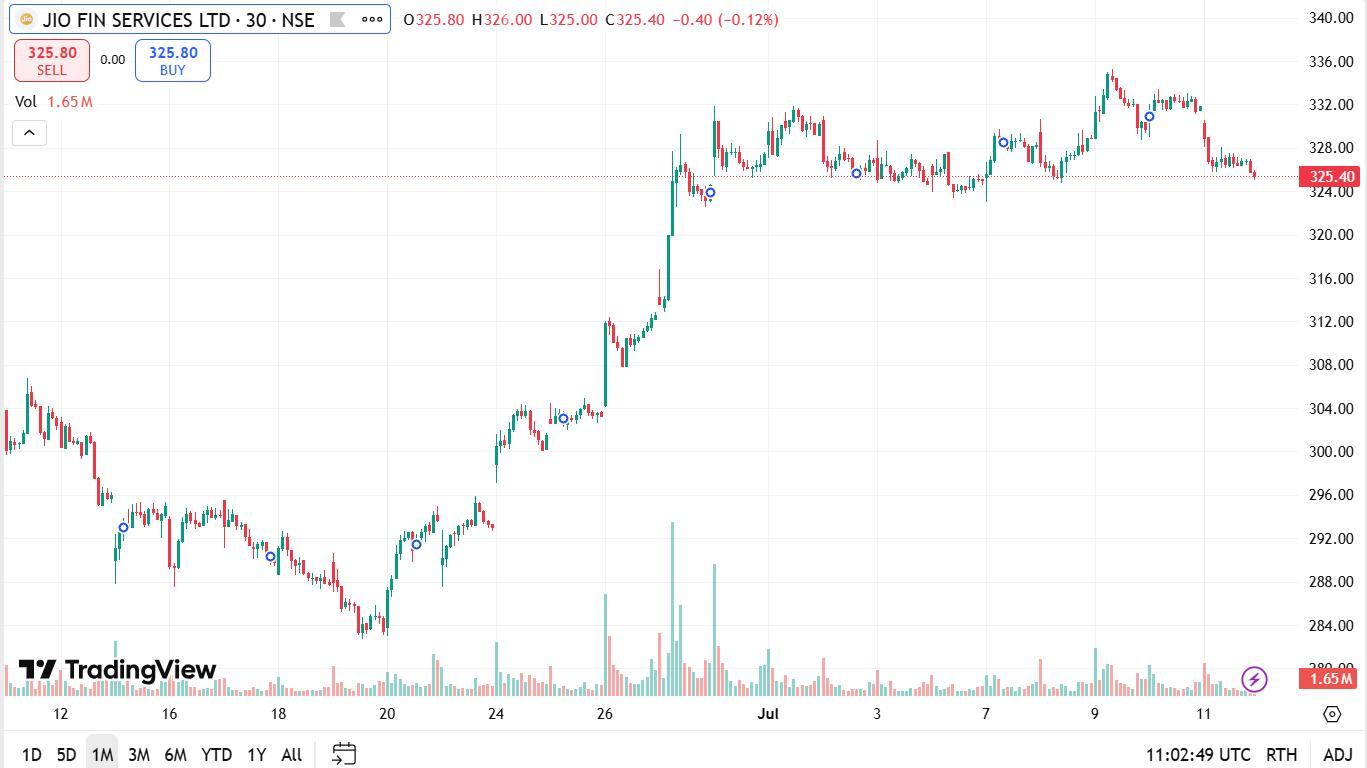Downtrend: (239, 487, 394, 661), (21, 327, 122, 516)
Sideways: (1043, 29, 1114, 189), (866, 122, 997, 202), (756, 99, 838, 159)
Uptrend: (597, 97, 692, 371), (440, 359, 527, 586)
